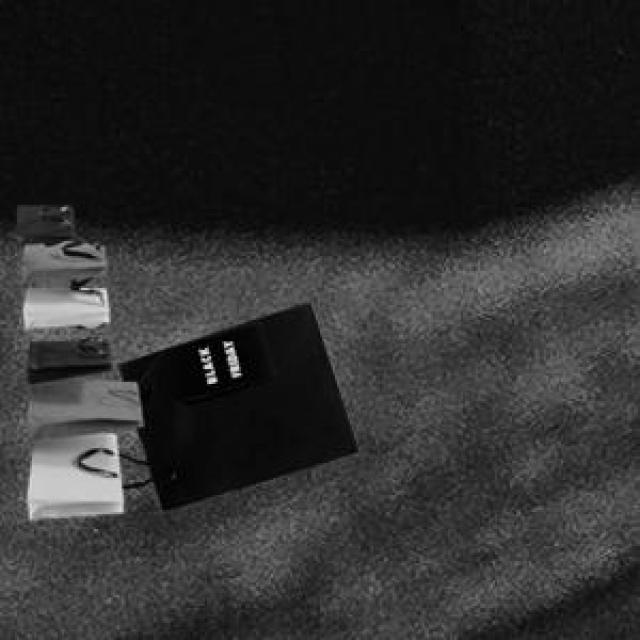paper: (113, 299, 354, 508), (13, 201, 139, 516)
